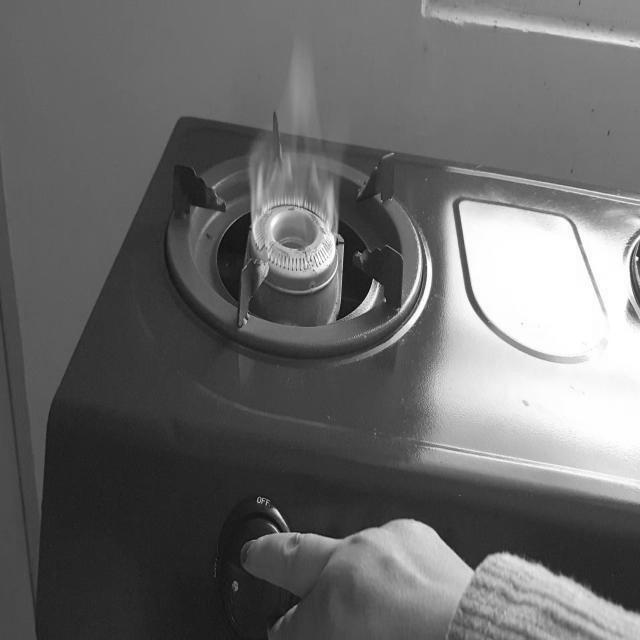smoke: (244, 36, 342, 272)
